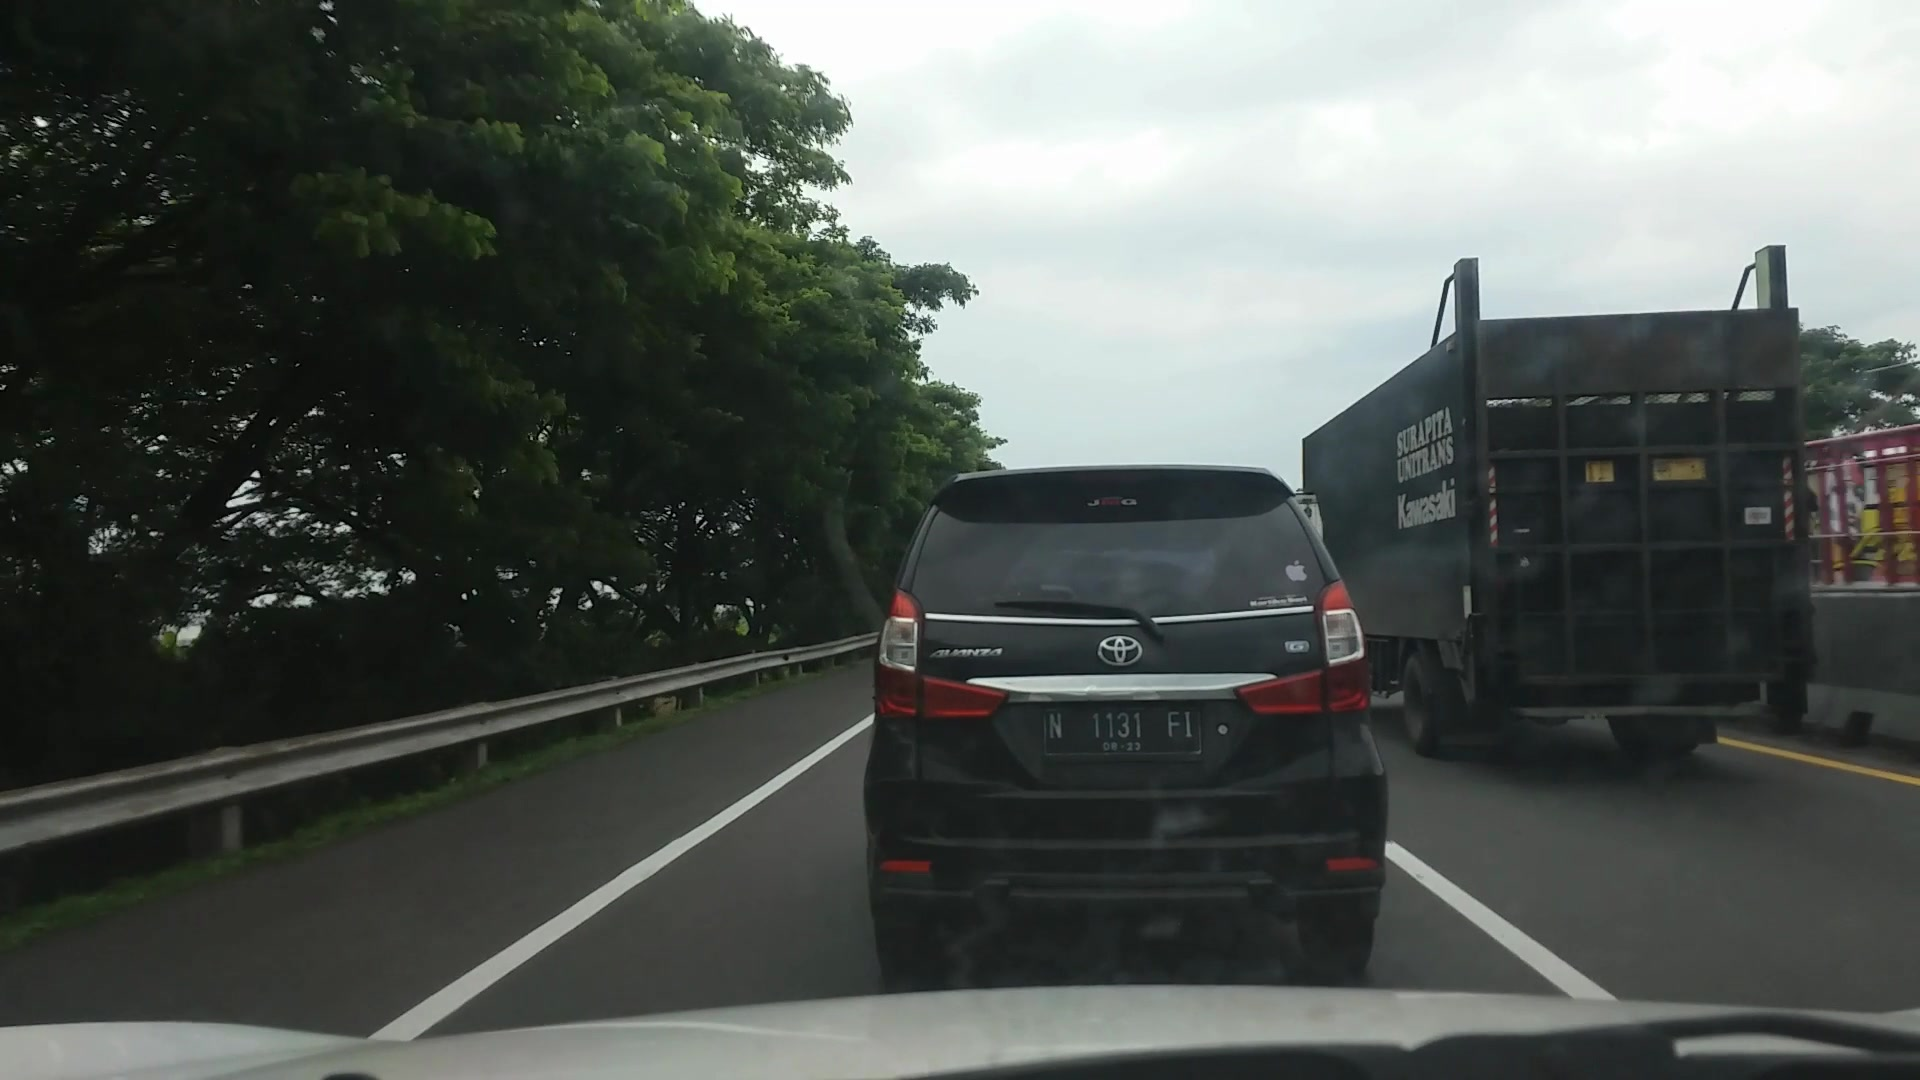plate_positive: (1044, 708, 1201, 756)
